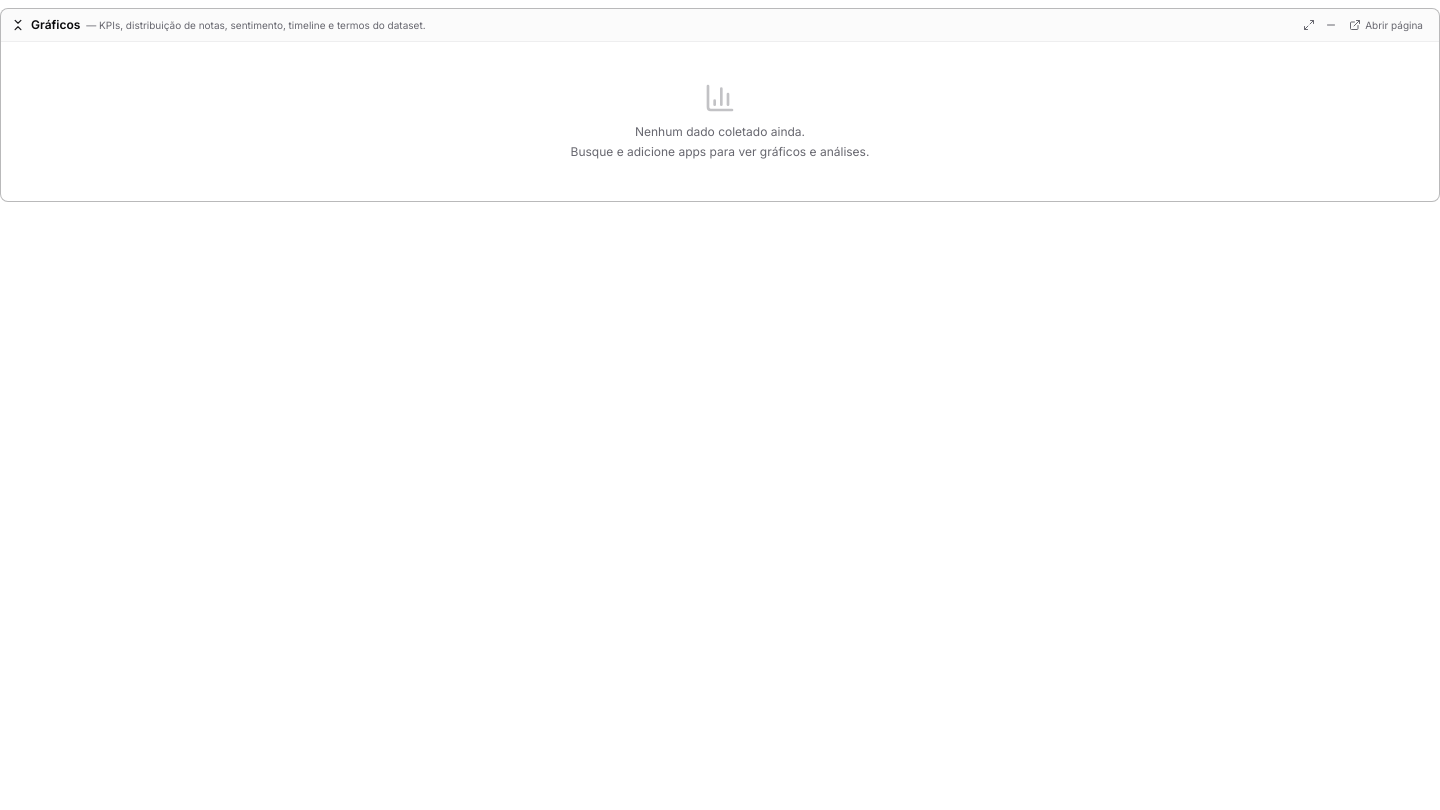
Test case: EmbeddedSurface — níveis e modal › abre a superfície em modal e o conteúdo real aparece nele
Click the button named "Abrir Gráficos em tela cheia" at (1309, 25), box [1299,15,1319,35]
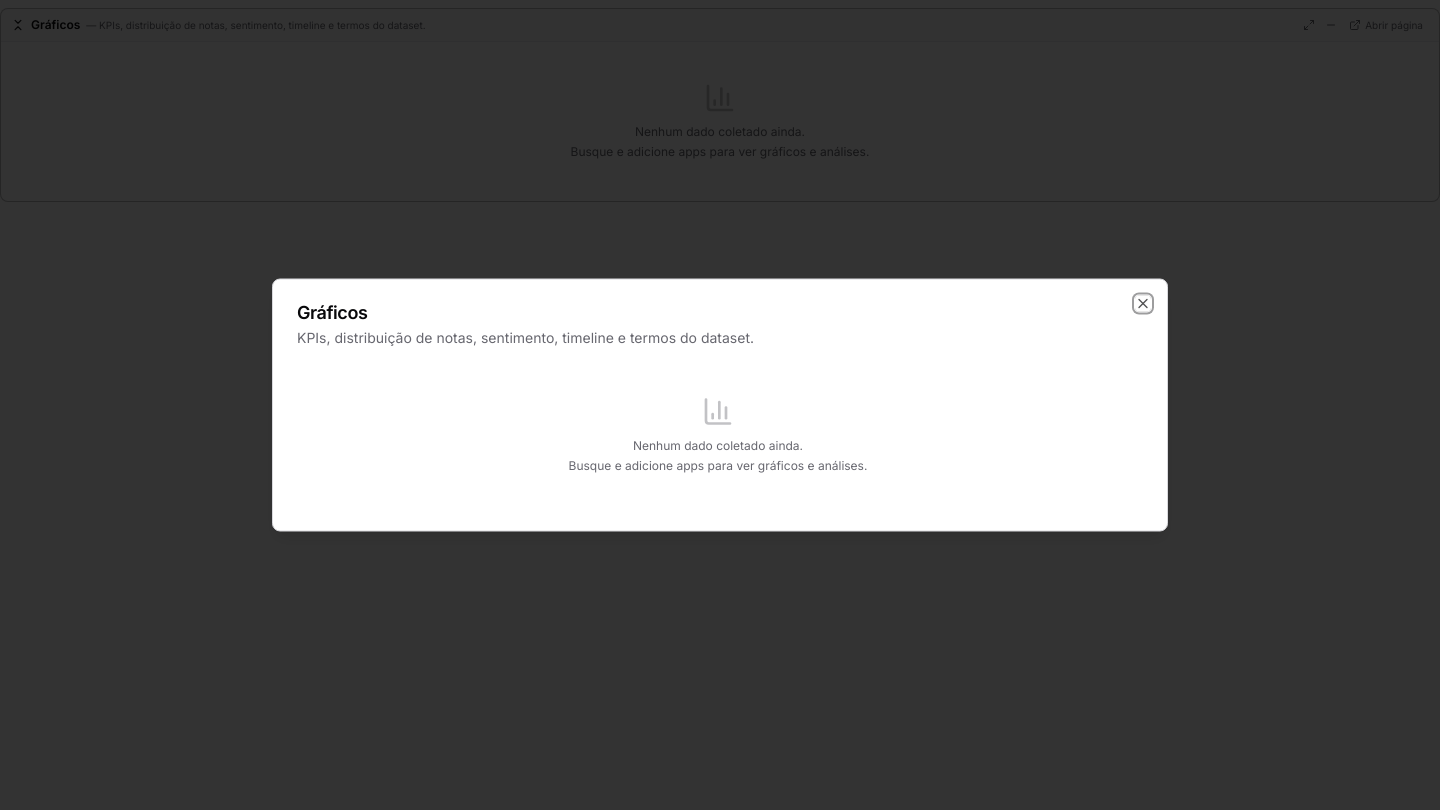
Now the dialog is shown, box [272,278,1168,532]
